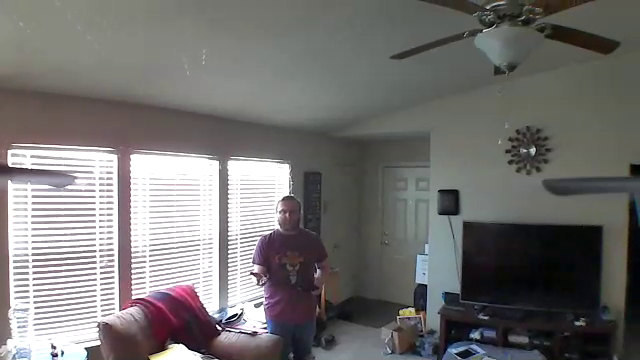land: (242, 265, 276, 291)
